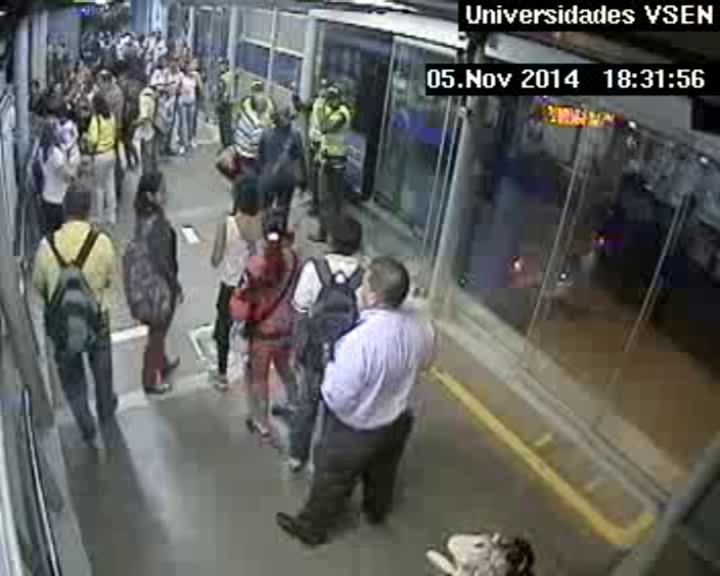person: (359, 257, 413, 315), (324, 213, 364, 257), (232, 176, 267, 211), (62, 184, 92, 221), (138, 172, 170, 206), (260, 212, 291, 245), (38, 118, 59, 142), (272, 108, 290, 128), (326, 89, 343, 107), (96, 69, 112, 88), (90, 94, 105, 111), (251, 81, 266, 97), (252, 97, 267, 113), (115, 61, 129, 76), (317, 79, 330, 94), (218, 58, 231, 71), (134, 77, 146, 91), (30, 81, 42, 94), (51, 81, 63, 94), (165, 40, 177, 53), (35, 102, 46, 116), (69, 78, 80, 92), (81, 77, 93, 89), (105, 45, 117, 57), (75, 58, 86, 70), (184, 61, 196, 72), (77, 101, 88, 112), (58, 111, 69, 122), (48, 36, 58, 47), (124, 32, 134, 43), (159, 56, 169, 67), (57, 38, 67, 48), (87, 32, 96, 42), (192, 59, 201, 69), (171, 62, 180, 72), (148, 31, 156, 40), (155, 31, 162, 39), (98, 31, 105, 39), (104, 38, 111, 46), (138, 34, 145, 41), (105, 31, 111, 37)
